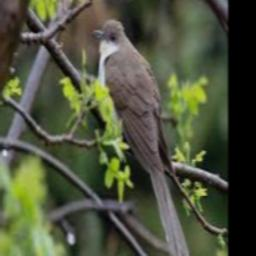Cuckoo: (92, 18, 192, 256)
